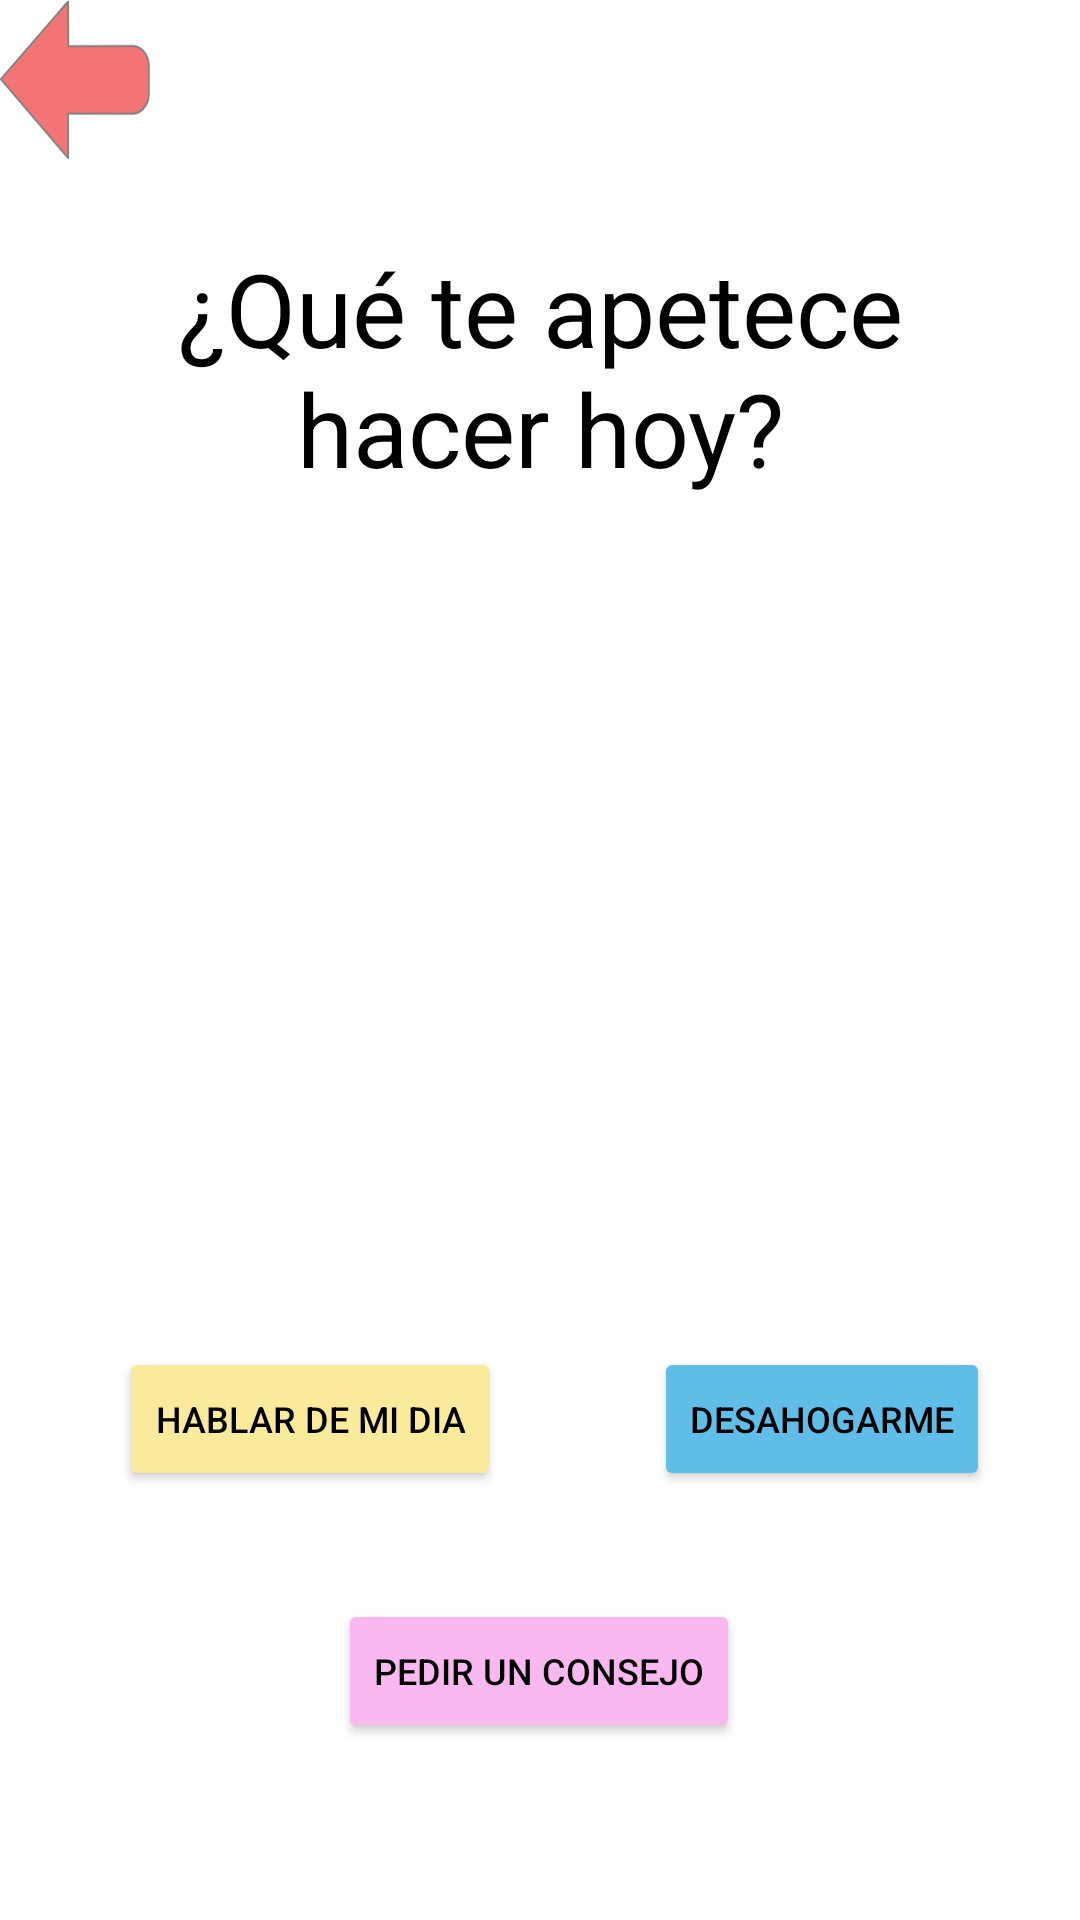

Where icons sit on this 1080×1920 app screen, as box=[x1, y1, x2, y2]:
back: box=[0, 0, 150, 159]
